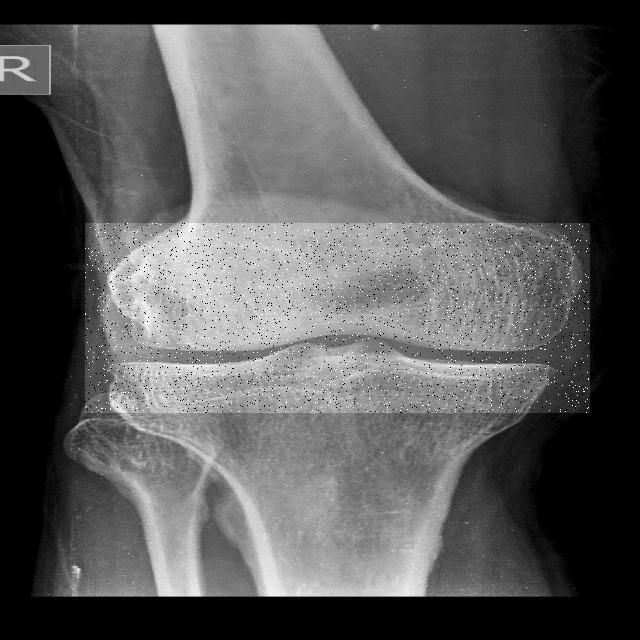osteo: (85, 223, 590, 413)
